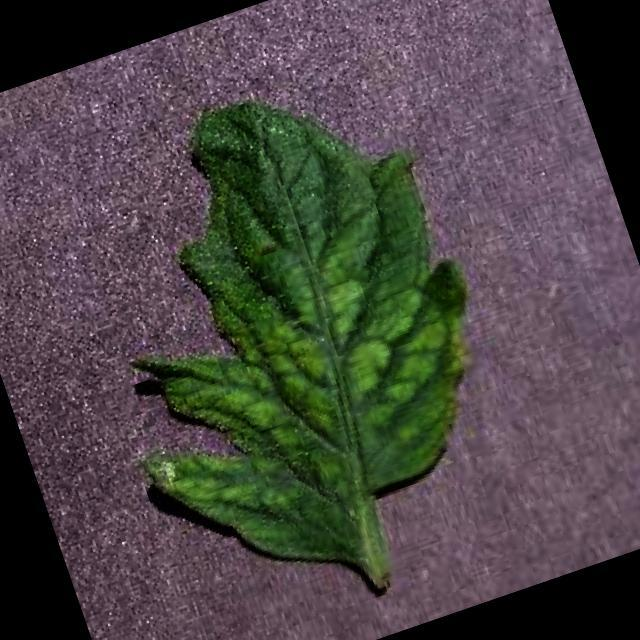Tomato mosaic virus leaf: (40, 44, 542, 614)
